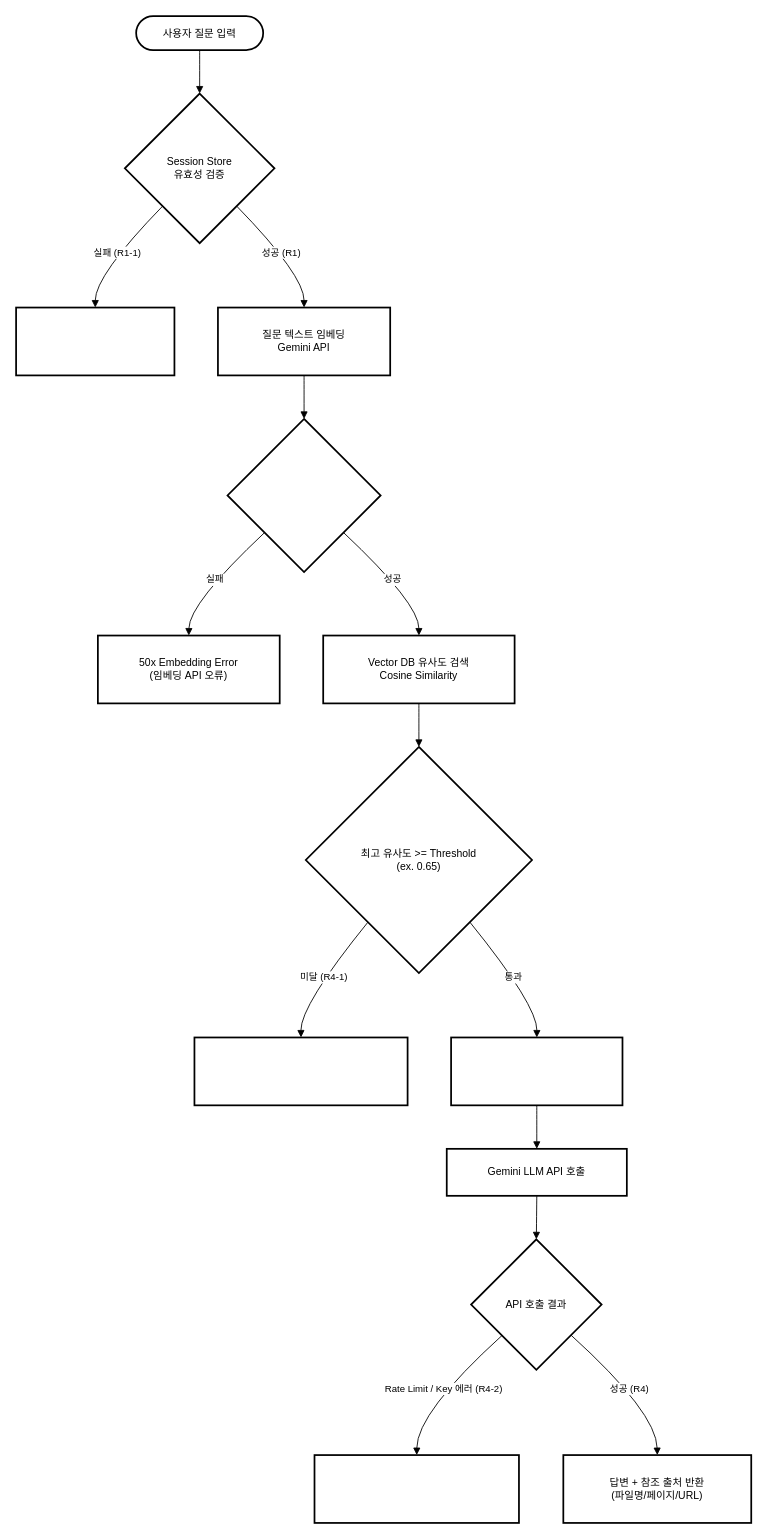
The diagram is 766 pixels wide and 1538 high, and some of its shapes have lost their labels. Here are the shapes that lost their labels. From the top down, the centre of each, then its label:
point 95,341: 40x Session Error (세션 없음/만료)
point 303,495: 임베딩 성공 여부
point 300,1071: 관련 문서 없음 안내 반환 (API 호출 스킵/비용 절감)
point 536,1071: Context + Question 프롬프트 구성
point 416,1488: 429 / 503 Graceful Error (일시적 이용 불가 안내)
